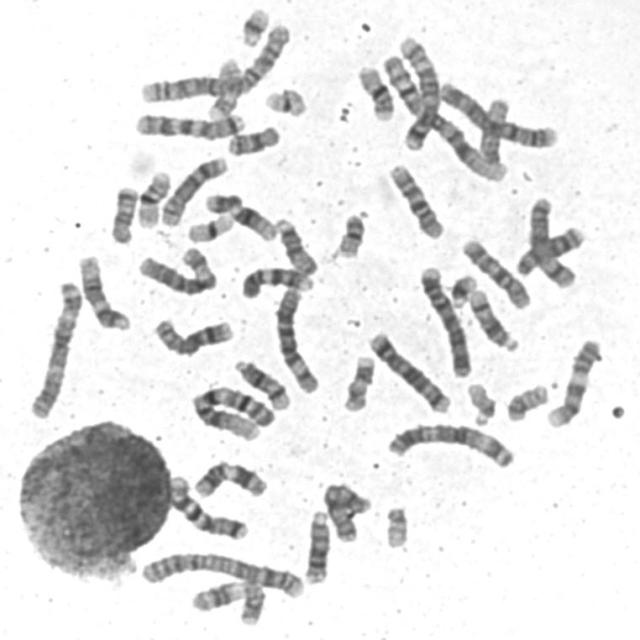A1: (378, 46, 509, 183), (186, 380, 277, 442)
A2: (134, 17, 294, 104), (134, 545, 308, 600)
A3: (23, 275, 85, 420), (381, 416, 516, 471)
B4: (434, 76, 562, 150), (414, 259, 474, 379)
B5: (363, 326, 453, 415), (394, 30, 442, 152)
C10: (456, 232, 533, 310), (383, 157, 446, 241)
C11: (186, 574, 268, 628), (189, 456, 270, 501)
C12: (72, 250, 132, 332), (199, 186, 278, 243)
C6: (268, 281, 322, 395), (132, 241, 219, 297)
C7: (162, 469, 250, 542), (129, 106, 248, 141)
C8: (156, 150, 230, 228), (148, 311, 236, 358)
C9: (541, 334, 604, 429), (235, 260, 316, 300)
D13: (510, 220, 587, 277), (299, 505, 333, 585)
D14: (462, 284, 522, 353), (228, 352, 292, 412)
D15: (270, 212, 320, 277), (477, 92, 512, 168)
E16: (352, 59, 396, 122), (131, 166, 173, 230)
E17: (200, 52, 242, 119), (337, 349, 376, 414)
E18: (222, 119, 282, 158), (105, 180, 139, 245)
F19: (181, 208, 236, 244), (259, 82, 309, 119)
F20: (501, 378, 551, 423), (331, 208, 367, 260)
G21: (234, 2, 272, 48), (445, 269, 478, 308)
G22: (462, 378, 498, 427), (379, 501, 411, 550)
X: (523, 190, 580, 290), (316, 476, 374, 544)
